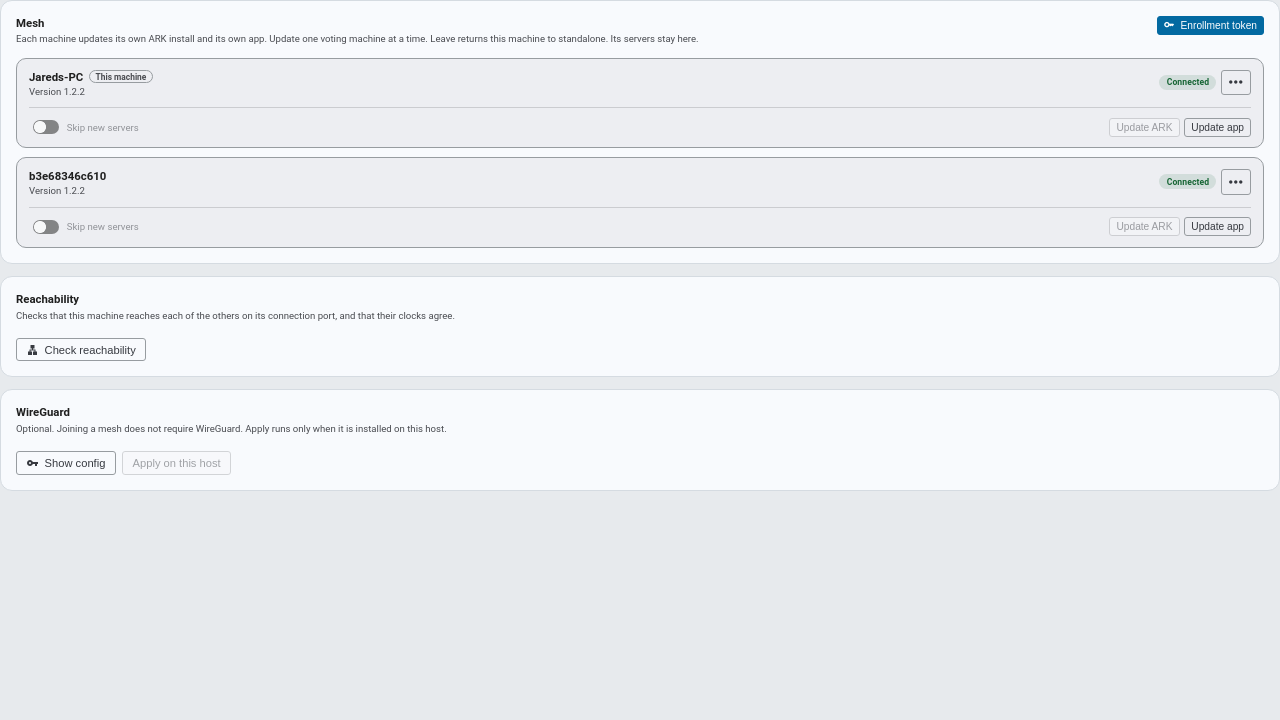
it: MeshSettingsComponent › naming a machine › is not offered to someone who cannot manage machines
Click the button with class "mesh-node-more" in the row of "b3e68346c610": [1236, 182] box [1221,169,1251,195]
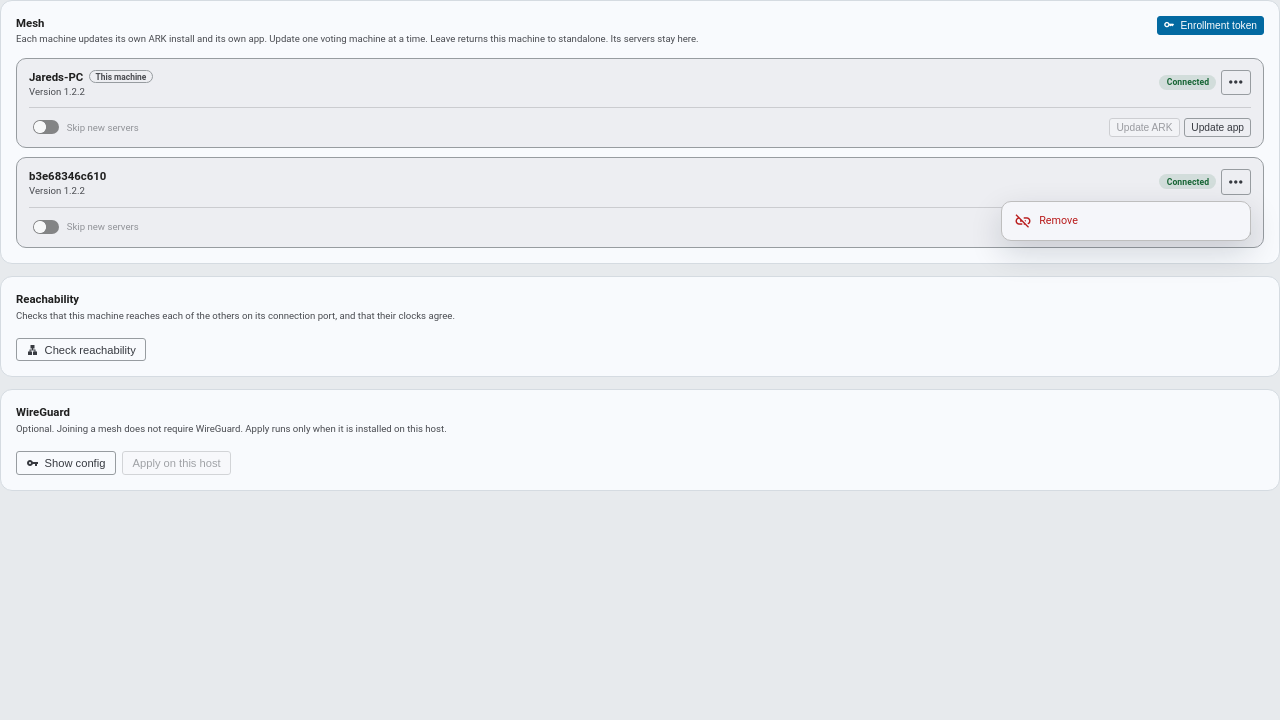
Check: the menu with class "mesh-node-menu" is shown, box [1001,201,1251,241]
